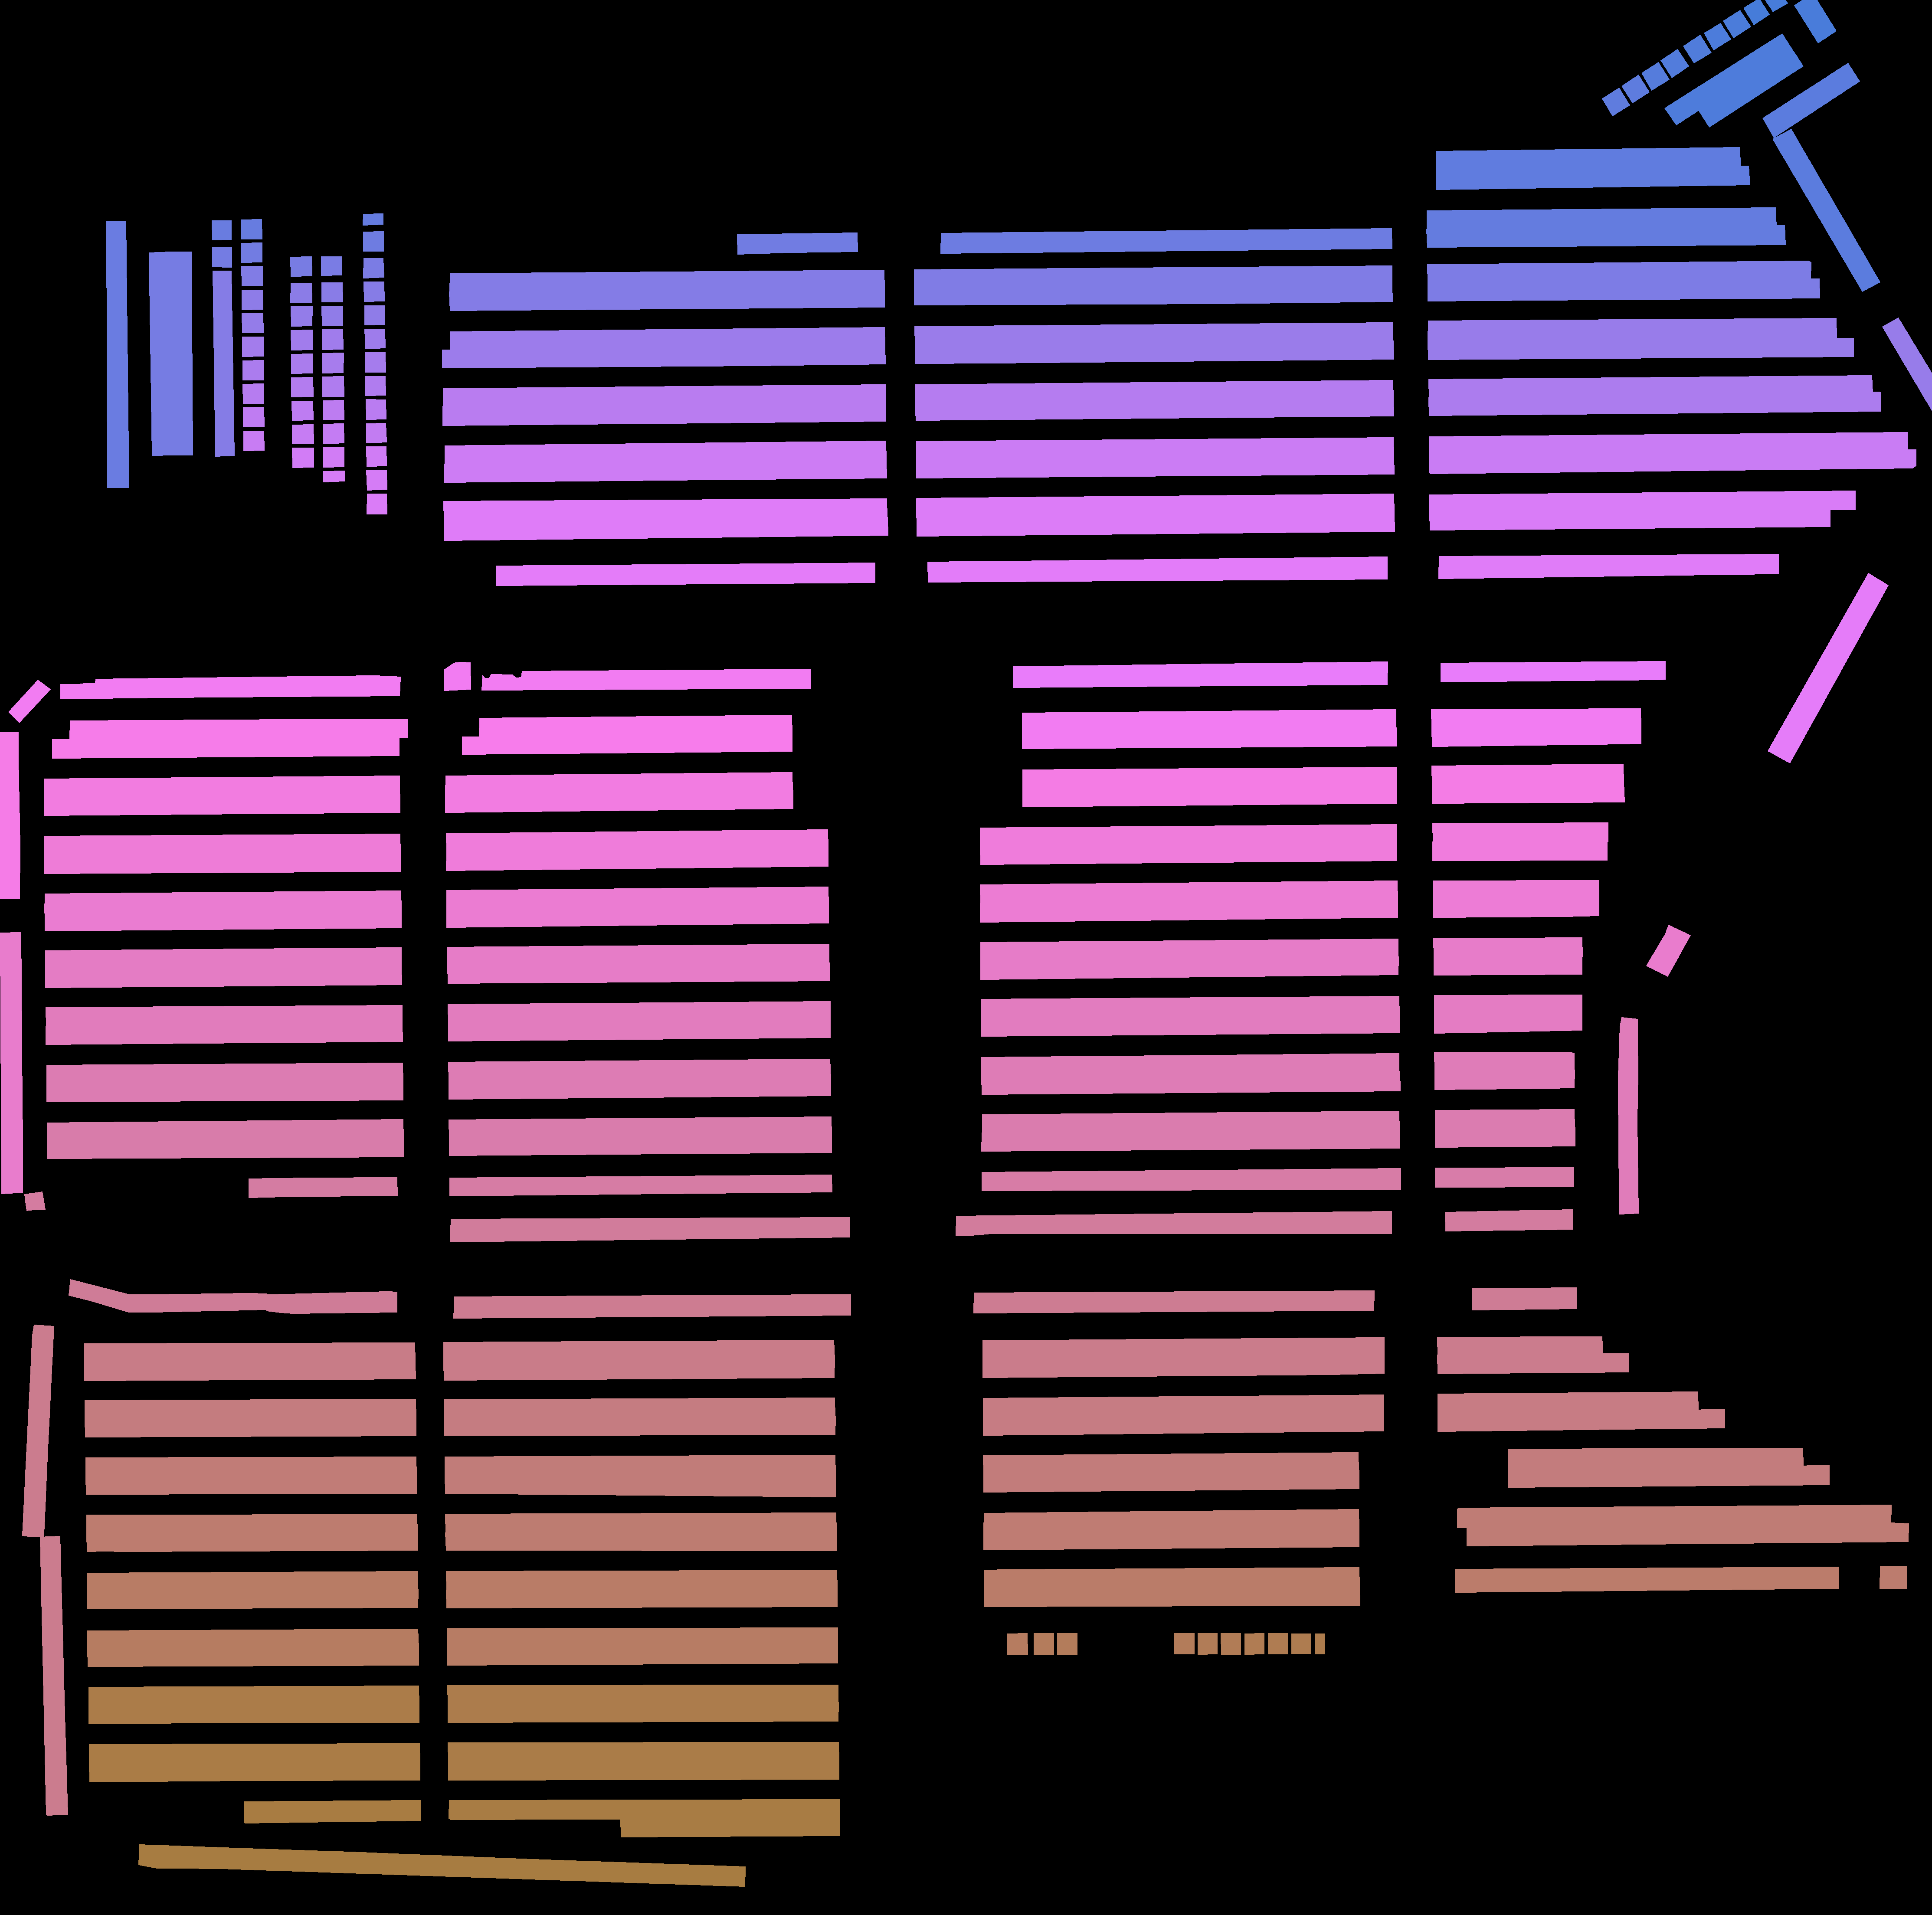parkingspot: (139, 1845, 745, 1887), (1767, 573, 1888, 763), (1772, 128, 1879, 291), (927, 556, 1387, 582), (1429, 449, 1916, 473), (1429, 431, 1907, 456), (913, 265, 1392, 289), (917, 437, 1394, 461), (917, 493, 1394, 517), (917, 512, 1394, 537), (1664, 33, 1792, 125), (1429, 391, 1881, 416), (940, 228, 1392, 253), (915, 340, 1394, 363), (915, 381, 1394, 403), (915, 398, 1394, 421), (442, 402, 885, 426), (915, 323, 1392, 345), (917, 456, 1394, 479), (1467, 1522, 1909, 1547), (445, 440, 885, 465), (955, 1212, 1392, 1236), (451, 326, 885, 351), (1427, 335, 1853, 360), (980, 880, 1397, 905), (982, 1110, 1399, 1135), (1429, 375, 1872, 398), (442, 345, 885, 368), (444, 459, 887, 482), (444, 517, 887, 540), (444, 498, 887, 521), (1455, 1566, 1839, 1592), (913, 284, 1392, 305), (444, 384, 885, 407), (449, 270, 884, 293), (449, 288, 884, 310), (1457, 1505, 1892, 1527), (1013, 661, 1387, 687), (451, 1217, 850, 1242), (454, 1294, 850, 1319), (1429, 491, 1855, 514), (445, 1473, 836, 1498), (980, 956, 1399, 979), (980, 996, 1399, 1019), (980, 1014, 1399, 1036), (982, 1071, 1401, 1094), (982, 1168, 1401, 1191), (980, 824, 1397, 847), (980, 842, 1397, 865), (980, 900, 1397, 922), (980, 938, 1397, 961), (1427, 317, 1837, 340), (982, 1356, 1385, 1378), (973, 1291, 1374, 1313), (984, 1394, 1383, 1417), (984, 1412, 1383, 1434), (1427, 279, 1820, 302), (444, 1340, 835, 1363), (444, 1357, 835, 1380), (982, 1054, 1399, 1075), (982, 1129, 1399, 1150), (1427, 261, 1811, 284), (447, 1001, 831, 1024), (445, 829, 827, 852), (447, 887, 829, 910), (447, 905, 829, 928), (447, 943, 829, 966), (449, 1019, 831, 1042), (449, 1059, 831, 1082), (496, 563, 875, 586), (1022, 784, 1397, 807), (984, 1470, 1359, 1492), (984, 1508, 1359, 1531), (984, 1527, 1359, 1550), (1022, 708, 1396, 731), (1022, 766, 1396, 789), (982, 1338, 1385, 1359), (1429, 509, 1830, 530), (1697, 47, 1804, 126), (1438, 554, 1778, 579), (445, 1570, 838, 1591), (447, 1741, 840, 1762), (444, 1398, 835, 1419), (445, 1456, 836, 1477), (445, 1512, 836, 1533), (447, 1627, 838, 1648), (447, 1645, 838, 1666), (449, 1759, 840, 1780), (449, 1799, 840, 1820), (1427, 224, 1785, 247), (44, 891, 401, 914), (44, 908, 401, 931), (46, 1022, 403, 1045), (44, 775, 400, 798), (44, 833, 400, 856), (46, 947, 401, 970), (46, 965, 401, 987), (46, 1005, 401, 1028), (47, 1119, 403, 1142), (449, 1175, 833, 1196), (445, 849, 827, 870), (447, 963, 829, 984), (449, 1079, 831, 1100), (449, 1117, 831, 1138), (449, 1135, 831, 1156), (1427, 207, 1776, 230), (984, 1585, 1360, 1606), (445, 772, 792, 794), (445, 789, 792, 812), (1022, 728, 1397, 749), (984, 1452, 1359, 1473), (984, 1568, 1359, 1589), (40, 1536, 68, 1815), (60, 675, 400, 698), (1436, 165, 1750, 189), (444, 1415, 836, 1434), (445, 1589, 838, 1608), (445, 1531, 836, 1550), (447, 1685, 838, 1705), (447, 1703, 838, 1722), (44, 852, 401, 873), (46, 1063, 403, 1084), (46, 1080, 403, 1101), (44, 794, 400, 815), (47, 1138, 403, 1159), (482, 668, 810, 691), (53, 737, 400, 758), (1762, 63, 1860, 137), (70, 719, 408, 740), (89, 1761, 421, 1782), (88, 1703, 419, 1724), (88, 1685, 419, 1706), (86, 1513, 417, 1534), (1436, 147, 1741, 170), (463, 733, 792, 754), (1508, 1466, 1829, 1487), (23, 1324, 54, 1536), (479, 715, 792, 737), (68, 1278, 266, 1312), (86, 1589, 419, 1608), (89, 1743, 421, 1762), (88, 1647, 419, 1666), (88, 1629, 419, 1648), (86, 1533, 417, 1552), (86, 1475, 417, 1494), (86, 1457, 417, 1477), (84, 1417, 416, 1436), (84, 1399, 416, 1419), (84, 1361, 416, 1380), (84, 1343, 416, 1363), (88, 1571, 417, 1591), (1508, 1449, 1804, 1470), (1438, 1410, 1725, 1431), (1438, 1391, 1699, 1413), (0, 933, 23, 1194), (107, 221, 128, 488), (1441, 661, 1666, 682), (149, 251, 172, 456), (170, 251, 193, 454), (1883, 317, 1932, 410), (1431, 726, 1641, 747), (244, 1799, 421, 1824), (212, 270, 235, 456), (621, 1817, 840, 1836), (1431, 708, 1641, 728), (1431, 765, 1623, 786), (1432, 782, 1625, 803), (1618, 1017, 1637, 1214), (1432, 822, 1608, 844), (1432, 840, 1608, 861), (1438, 1354, 1629, 1373), (1432, 880, 1599, 900), (1432, 898, 1599, 917), (0, 731, 19, 898), (1438, 1336, 1602, 1356), (1432, 936, 1583, 957), (249, 1177, 398, 1198), (1434, 994, 1581, 1015), (1434, 1012, 1581, 1033), (266, 1291, 396, 1313), (1434, 1108, 1574, 1129), (1434, 956, 1581, 975), (1434, 1168, 1574, 1187), (1434, 1052, 1574, 1071), (1434, 1070, 1574, 1089), (1434, 1128, 1574, 1147), (1445, 1210, 1573, 1231), (736, 233, 857, 254), (1471, 1287, 1576, 1310), (1646, 924, 1690, 977), (1793, 0, 1836, 42), (9, 680, 51, 723), (1723, 11, 1751, 39), (1683, 35, 1711, 63), (1660, 49, 1688, 77), (1641, 61, 1669, 89), (1622, 75, 1650, 103), (1602, 88, 1630, 116), (444, 661, 470, 691), (1704, 23, 1730, 49), (1743, 0, 1769, 25), (1879, 1566, 1907, 1589), (1220, 1633, 1241, 1655), (240, 242, 261, 263), (242, 289, 263, 310), (242, 360, 263, 381), (291, 256, 312, 277), (291, 282, 312, 303), (291, 330, 312, 351), (293, 447, 314, 468), (363, 258, 384, 279), (321, 305, 342, 326), (323, 352, 344, 374), (323, 375, 344, 396), (323, 423, 344, 444), (365, 328, 386, 349), (365, 375, 386, 396), (366, 493, 387, 514), (291, 377, 314, 396), (291, 402, 314, 421), (244, 431, 265, 451), (240, 219, 261, 238), (242, 267, 263, 286), (242, 314, 263, 333), (242, 337, 263, 356), (242, 384, 263, 403), (244, 407, 265, 426), (321, 256, 342, 275), (321, 282, 342, 302), (291, 307, 312, 326), (291, 354, 312, 374), (293, 424, 314, 444), (363, 231, 384, 251), (363, 282, 384, 302), (323, 330, 344, 349), (323, 400, 344, 419), (323, 447, 344, 466), (365, 352, 386, 372), (366, 423, 386, 444), (366, 470, 387, 489), (1292, 1633, 1311, 1654), (1268, 1633, 1287, 1654), (1245, 1633, 1264, 1654), (1197, 1633, 1217, 1654), (1175, 1633, 1194, 1654), (1008, 1633, 1027, 1654), (1034, 1633, 1054, 1654), (1057, 1633, 1076, 1654), (25, 1191, 46, 1210), (212, 221, 231, 240), (212, 247, 231, 267), (365, 305, 384, 324), (366, 400, 386, 419), (366, 447, 386, 466), (1765, 0, 1788, 12), (323, 470, 344, 482), (1315, 1633, 1325, 1654), (363, 214, 382, 224)
